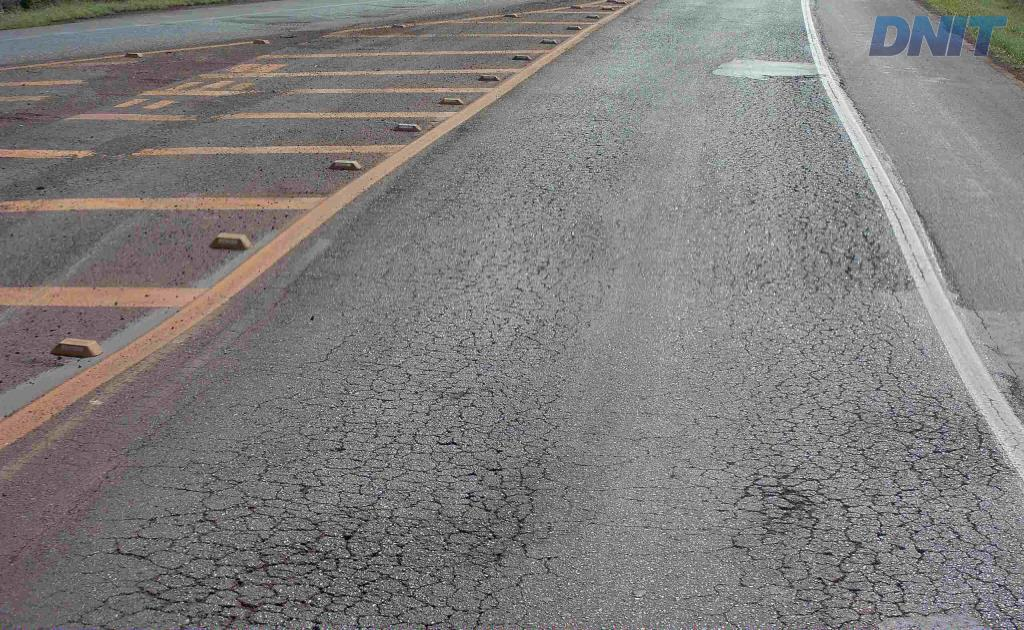crack: (269, 525, 388, 586), (737, 462, 824, 535), (238, 582, 352, 627), (443, 508, 528, 566), (235, 539, 294, 580)
